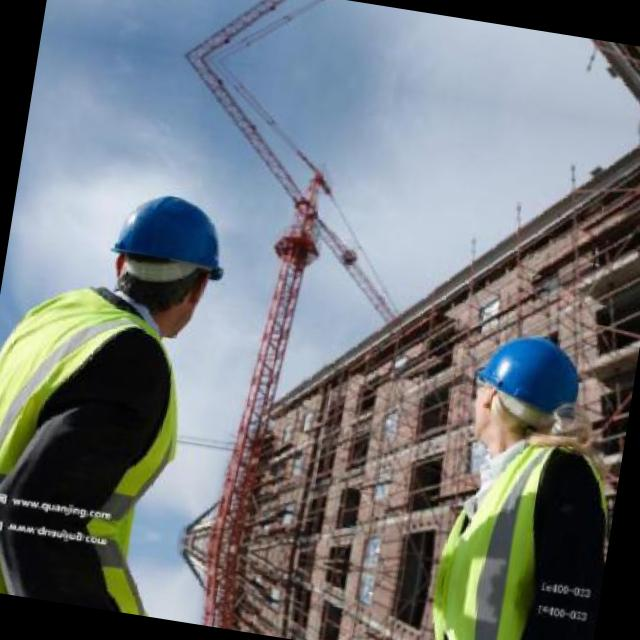helmet: (94, 176, 247, 348), (455, 316, 590, 463)
